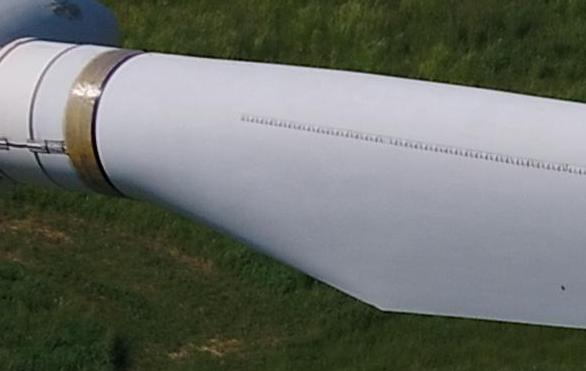damage: (50, 1, 81, 19)
